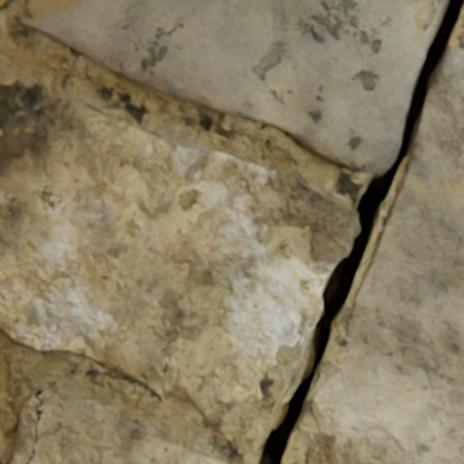brick: (0, 85, 358, 418), (21, 0, 433, 175), (312, 49, 463, 463), (12, 388, 225, 463), (0, 0, 10, 11), (301, 333, 304, 344)
crack: (258, 0, 463, 463), (28, 389, 44, 463)
